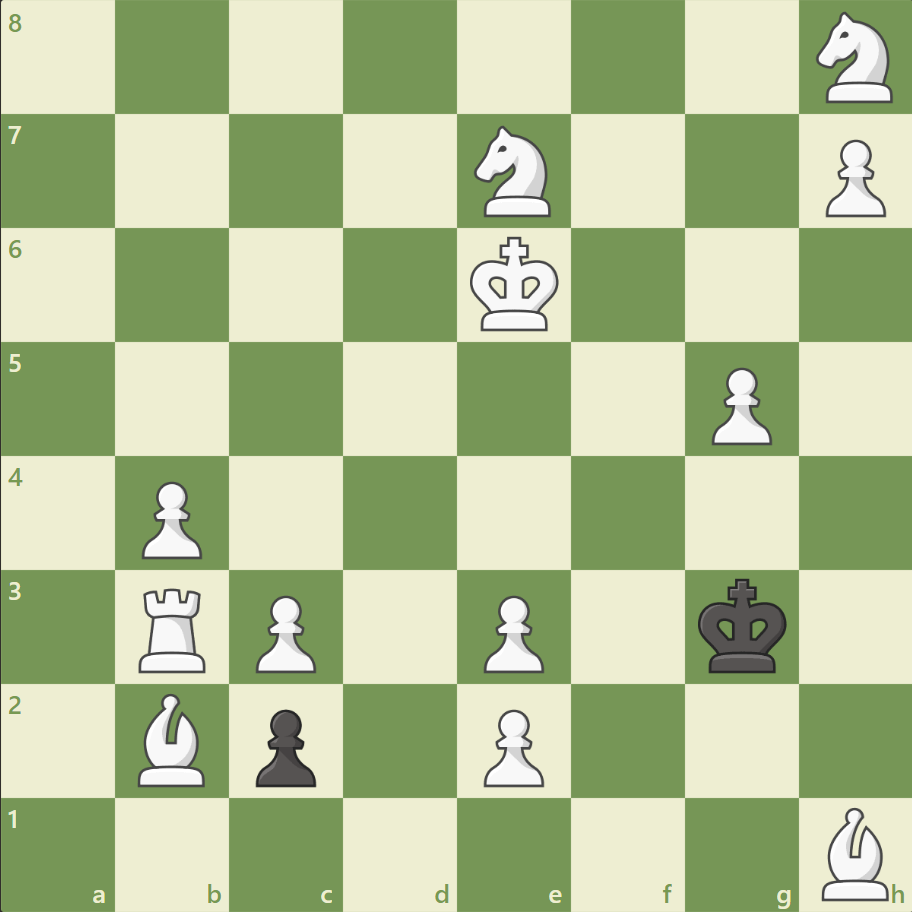B: (131, 687, 215, 790), (812, 801, 896, 904)
K: (465, 231, 565, 339)
N: (806, 7, 903, 110), (465, 121, 562, 223)
P: (701, 359, 776, 450), (133, 473, 208, 564), (247, 586, 322, 677), (474, 586, 549, 677), (474, 700, 549, 791), (815, 132, 889, 223)
R: (133, 579, 215, 676)
k: (692, 571, 792, 679)
p: (247, 700, 322, 791)
